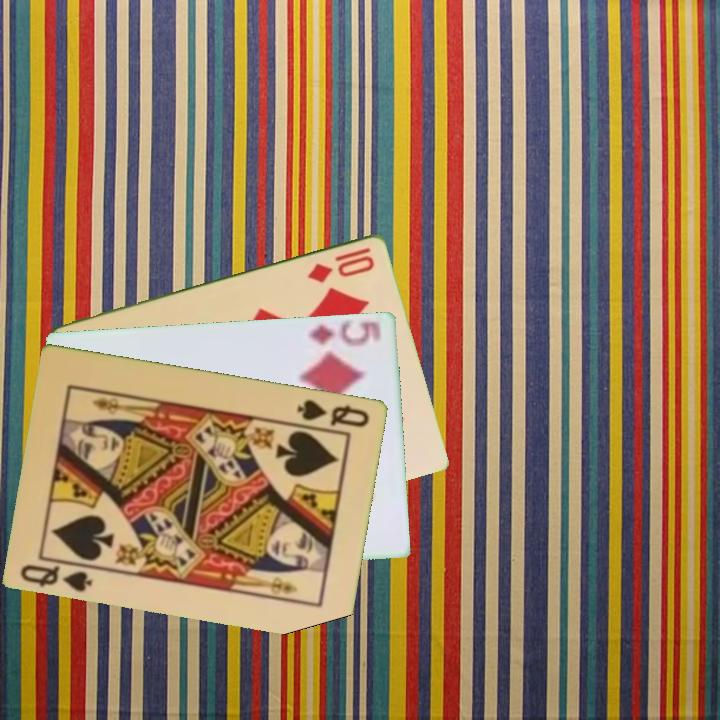10d: (303, 243, 378, 286)
5d: (305, 316, 385, 349)
Qs: (294, 395, 373, 430), (17, 560, 96, 595)
